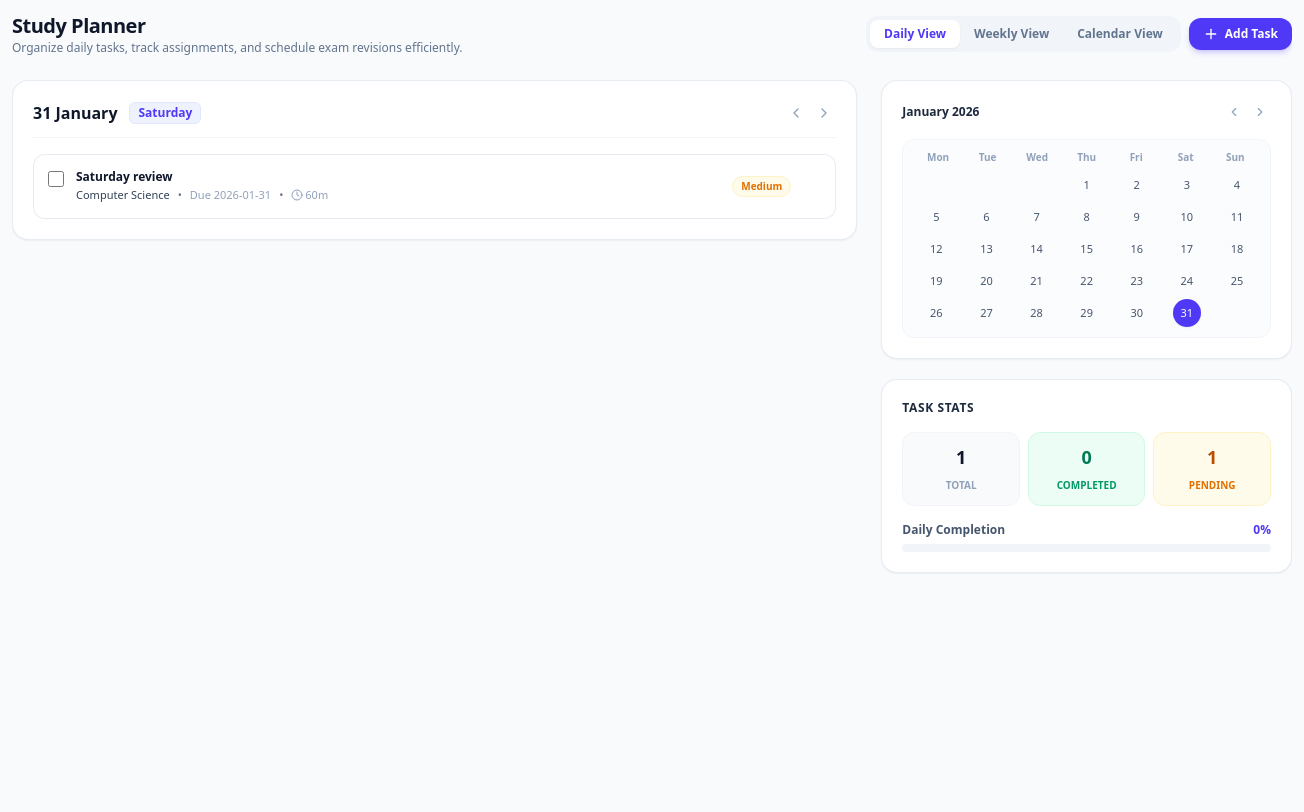
it: study planner › shows the Monday-to-Sunday week containing the selected date
The width and height of the screenshot is (1304, 812).
Click the button "Weekly View": (1012, 34) [960,20,1063,48]
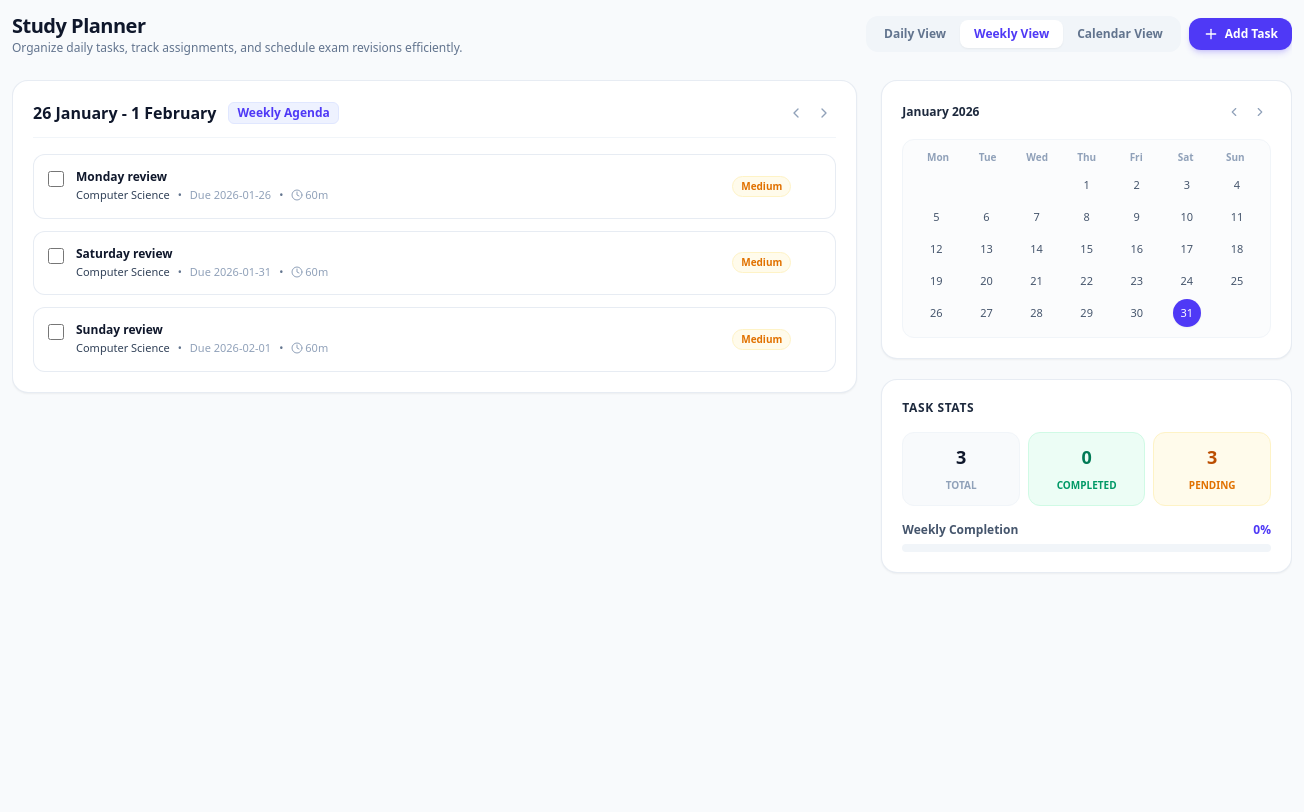
Expected: the text "26 January - 1 February" is shown, [33,101,216,125]
Expected: the heading "Monday review" is shown, [76,168,167,185]
Expected: the heading "Sunday review" is shown, [76,321,163,338]
Click the button named "Next week": (824, 113) [812,101,836,125]
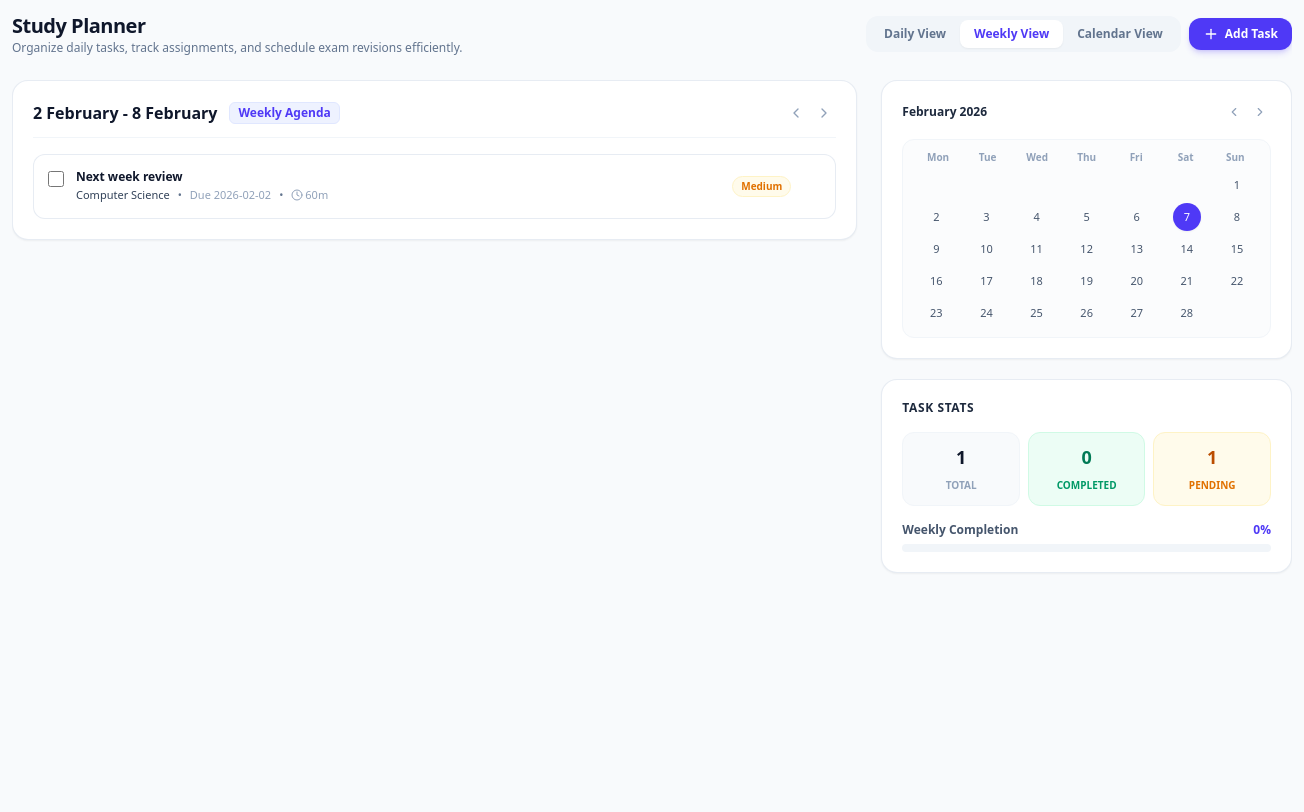
Expected: the text "2 February - 8 February" is shown, [33,101,218,125]
Expected: the heading "Next week review" is shown, [76,168,183,185]
